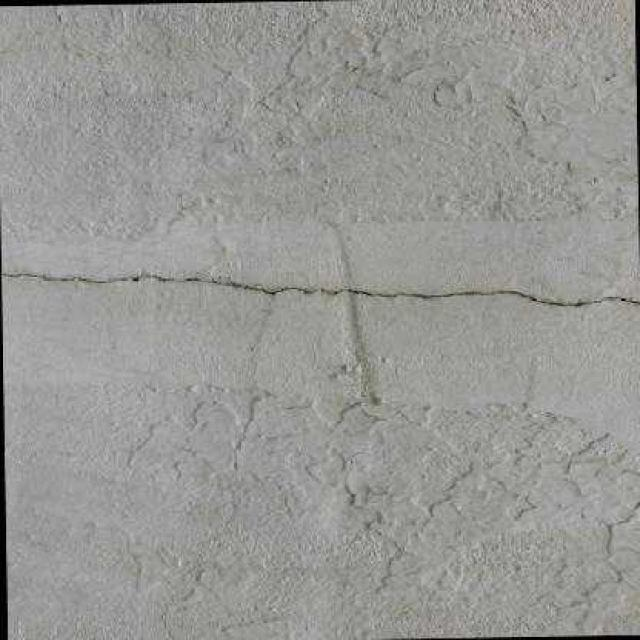D00: (0, 272, 640, 305)
